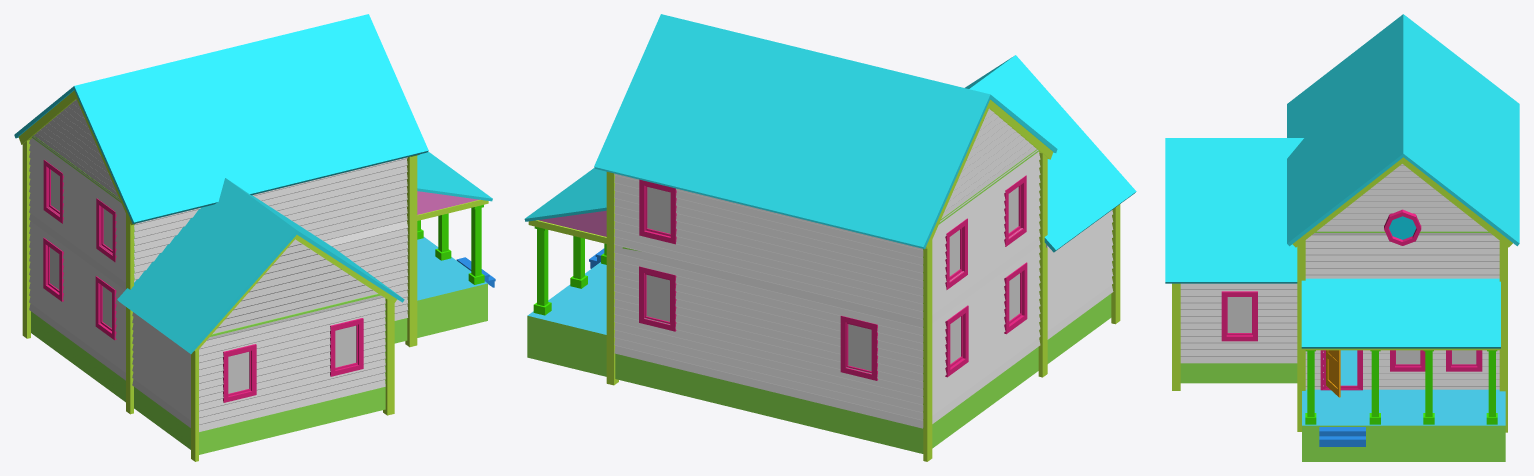
The model's file is Main House_v5 Windows open.fbx.
3 views of the same model, side by side, from view 1: azimuth 30°, elevation 25°; view 2: azimuth 150°, elevation 25°; view 3: azimuth 270°, elevation 25° (orthographic). The views are drawn at different scales.
Visible parts, largest first — view 1: Plane.012, Plane.035, Plane.017, Cube.044, Cube.023; view 2: Plane.012, Plane.035, Plane.017, Cube.044, Cube.023; view 3: Plane.012, Plane.035, Plane.017, Cube.044, Cube.023.
Part boxes in pixels (left/top/right/bottom): Plane.012: left=14, top=14, right=492, bottom=461; Plane.035: left=29, top=99, right=408, bottom=431; Plane.017: left=31, top=135, right=487, bottom=454; Cube.044: left=43, top=160, right=495, bottom=402; Cube.023: left=50, top=170, right=356, bottom=393; Plane.012: left=524, top=14, right=1136, bottom=461; Plane.035: left=614, top=108, right=1113, bottom=428; Plane.017: left=527, top=149, right=1111, bottom=453; Cube.044: left=533, top=175, right=1027, bottom=380; Cube.023: left=646, top=187, right=1019, bottom=370; Plane.012: left=1165, top=14, right=1519, bottom=432; Plane.035: left=1180, top=164, right=1499, bottom=389; Plane.017: left=1180, top=231, right=1505, bottom=461; Cube.044: left=1221, top=209, right=1497, bottom=446; Cube.023: left=1227, top=297, right=1476, bottom=364.
Size of the model in its own units: 615 by 441 by 504.
